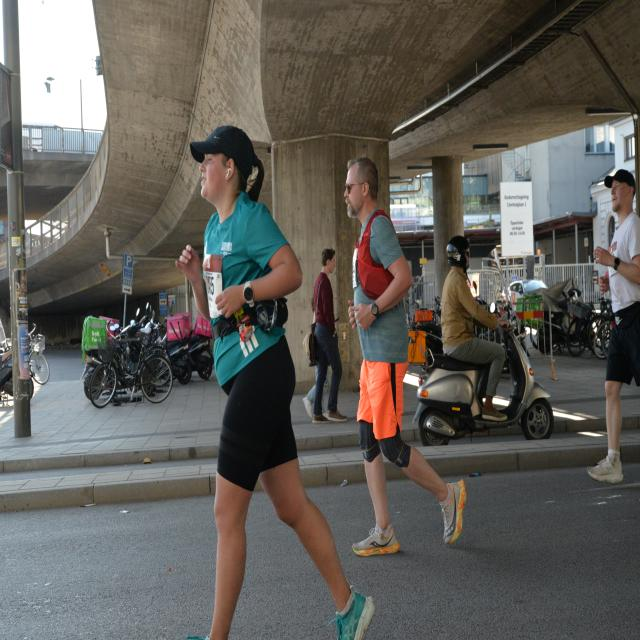runner-detect: (170, 112, 376, 640), (341, 141, 473, 571), (575, 159, 640, 491)
